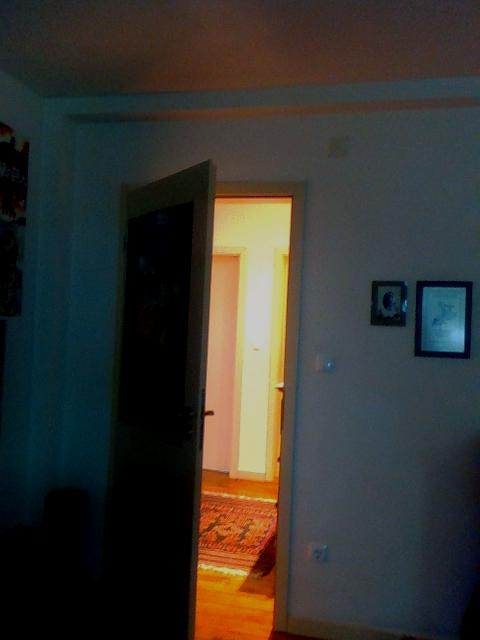semi_door: (101, 155, 308, 639)
